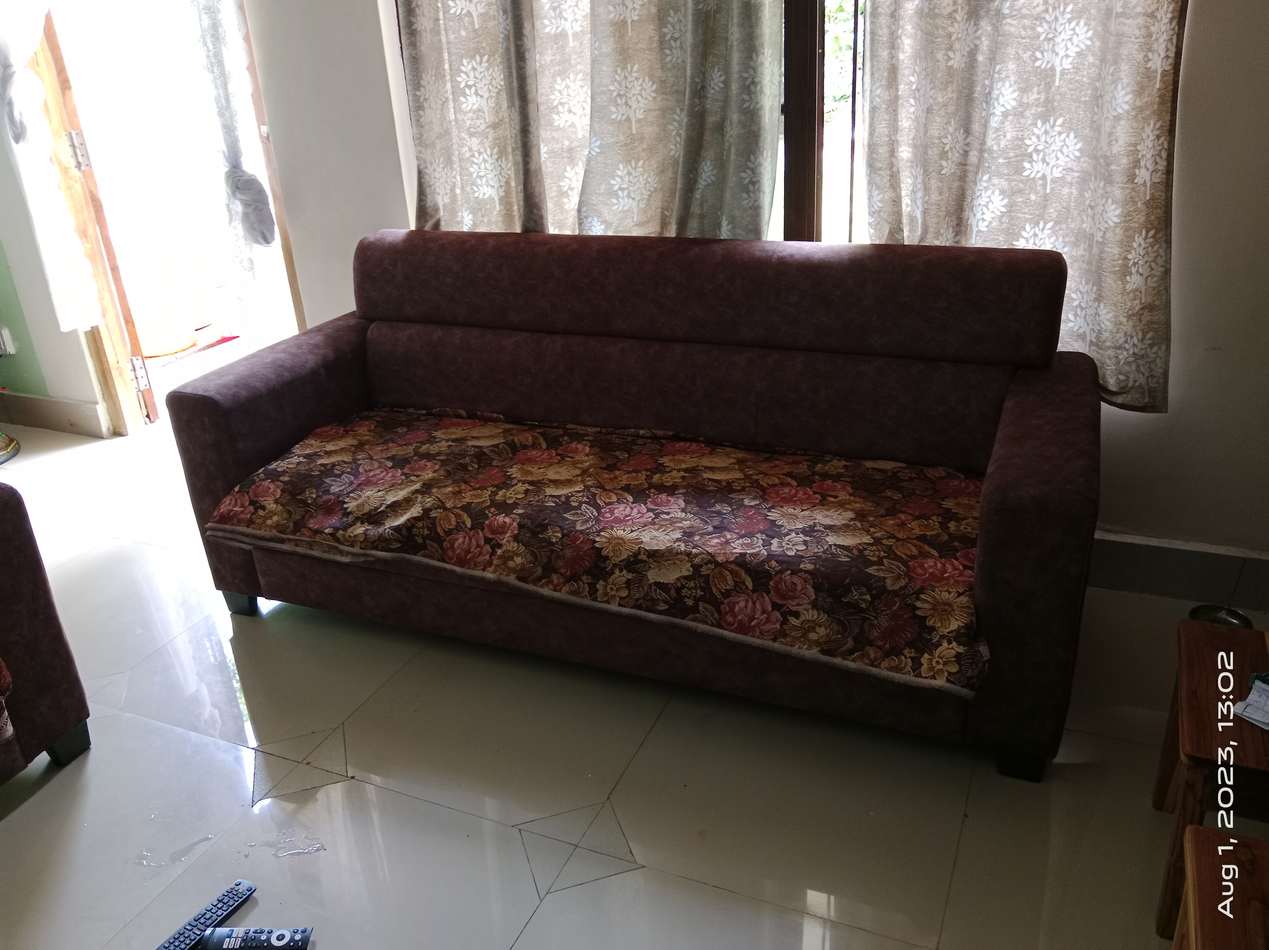sofa: (169, 227, 1101, 782)
